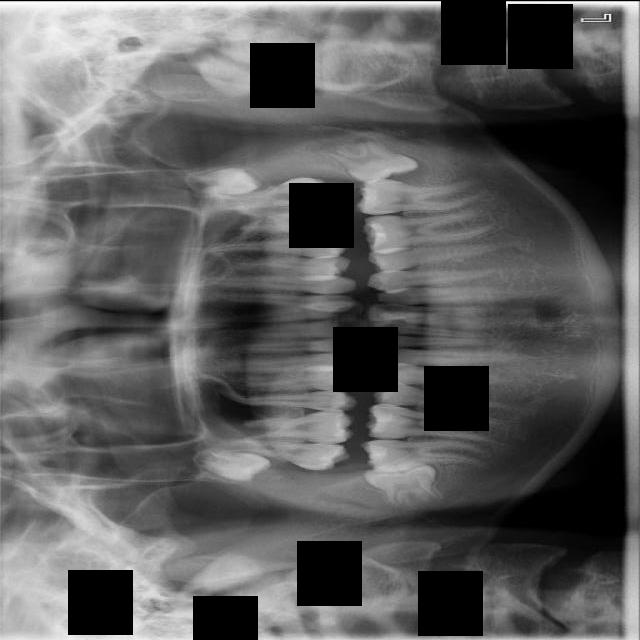3M ESPE Implant: (191, 447, 273, 483)
52: (281, 161, 343, 218), (359, 431, 403, 481), (305, 405, 358, 446), (298, 202, 348, 243), (358, 211, 401, 256), (354, 173, 397, 216), (293, 440, 352, 470), (361, 401, 399, 441)
73: (620, 10, 628, 18)
BioHorizons Implant: (192, 173, 343, 213)
BioLife Implant: (187, 165, 263, 194)
Biomet 3i Implant: (321, 118, 421, 202)
Blue Sky Bio Implant: (355, 176, 490, 215)
Caries: (202, 430, 352, 472)
Implant: (361, 437, 487, 473)
Keystone Dental Implant: (361, 455, 443, 515)
